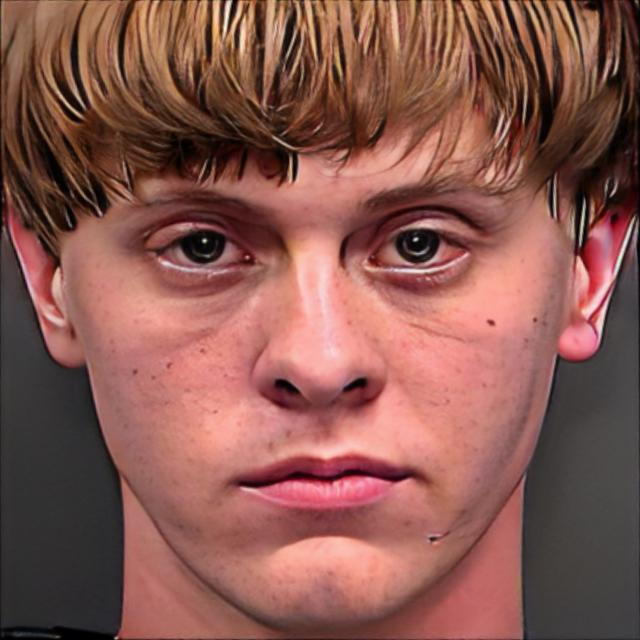neutral: (61, 29, 562, 639)
